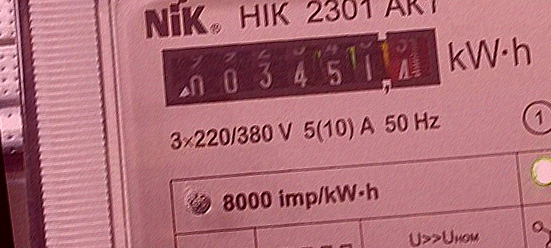0: (184, 69, 207, 98), (219, 65, 241, 95)
1: (358, 50, 378, 83)
3: (253, 58, 276, 91)
4: (287, 57, 311, 92), (391, 54, 414, 85)
5: (323, 55, 344, 88)
screen: (152, 10, 448, 127)
